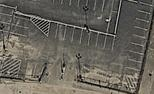parkingspot: (123, 1, 154, 79), (47, 21, 116, 51), (3, 15, 32, 61), (79, 63, 126, 90), (70, 0, 114, 14), (16, 59, 44, 80)
